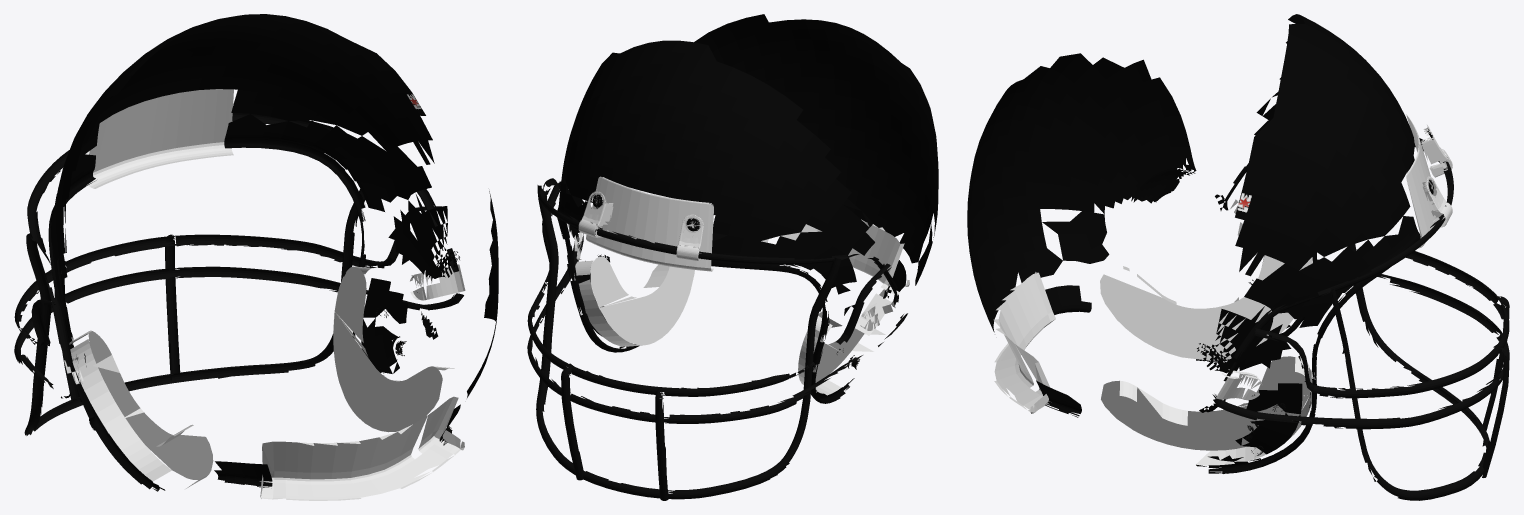
Rendered from SMv4.glb.
3 renders of one model, left to right at view 1: azimuth 30°, elevation 25°; view 2: azimuth 150°, elevation 25°; view 3: azimuth 270°, elevation 25°, orthographic. The views are drawn at different scales.
Parts seen in each view (by area): view 1: football_helmet.001; view 2: football_helmet.001; view 3: football_helmet.001.
Boxes of the visible parts, x1,y1,x2,y2 form: football_helmet.001: (14,14,498,500); football_helmet.001: (527,14,938,500); football_helmet.001: (967,14,1509,500).
Size of the model in its own units: 13.56 by 14.64 by 16.71.
Materials: 5 (1 with a texture image).
